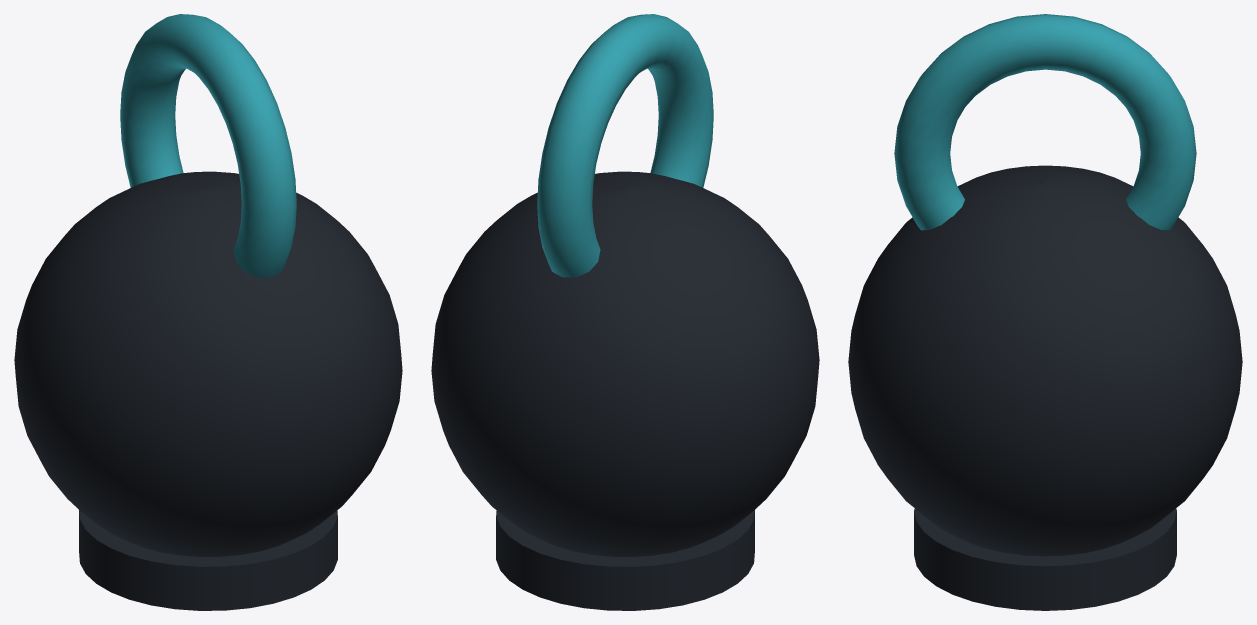
Rendered from kettlebell.glb.
3 renders of one model, left to right at view 1: azimuth 30°, elevation 25°; view 2: azimuth 150°, elevation 25°; view 3: azimuth 270°, elevation 25°, orthographic.
Parts seen in each view (by area): view 1: kettlebell; view 2: kettlebell; view 3: kettlebell.
Part boxes in pixels (left/top/right/bottom): kettlebell: left=14, top=14, right=402, bottom=610; kettlebell: left=431, top=14, right=819, bottom=610; kettlebell: left=848, top=14, right=1242, bottom=610.
Bounding box in the file's own units: 0.24 × 0.362 × 0.24.
